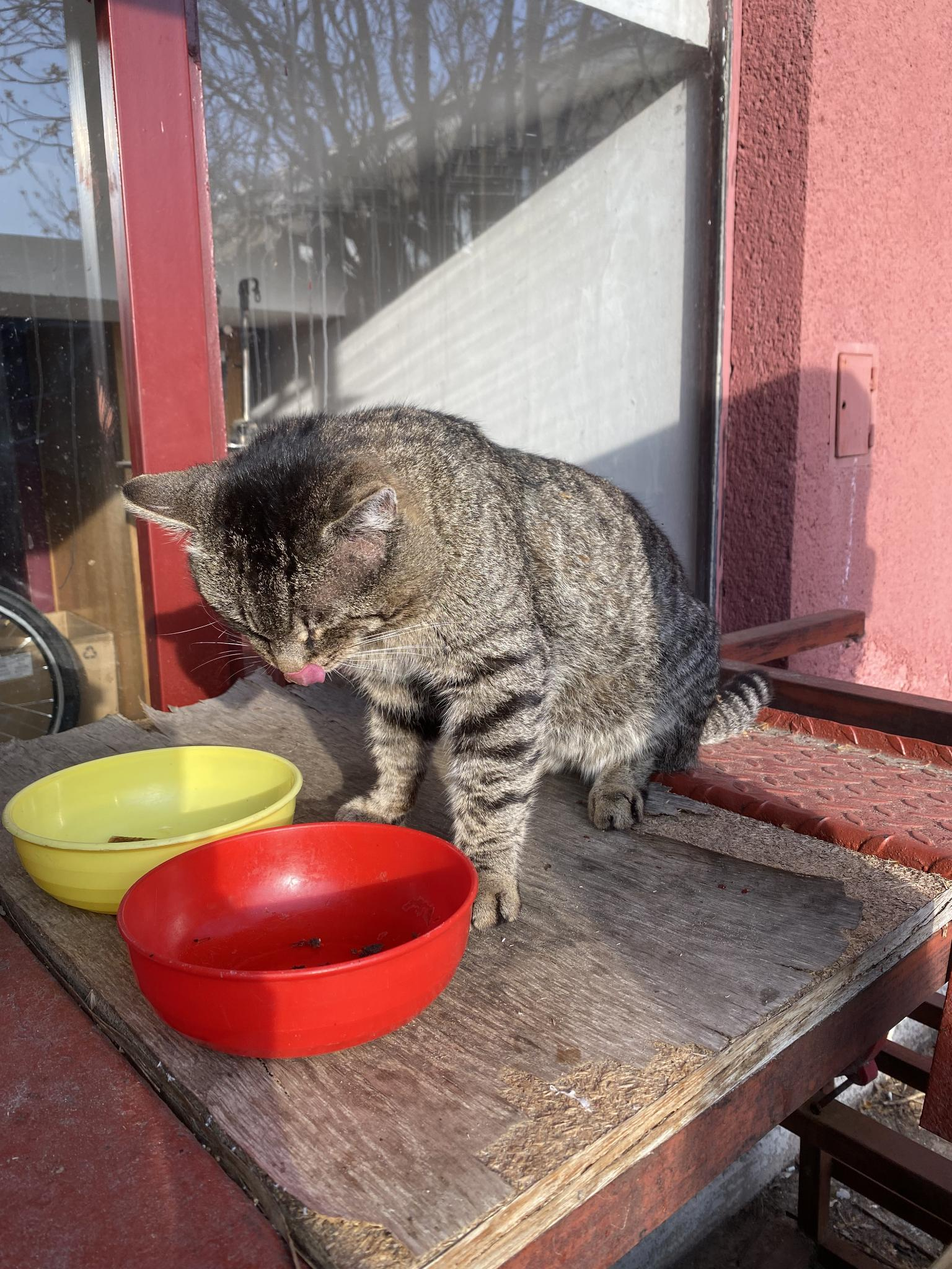macka: (124, 414, 773, 930)
